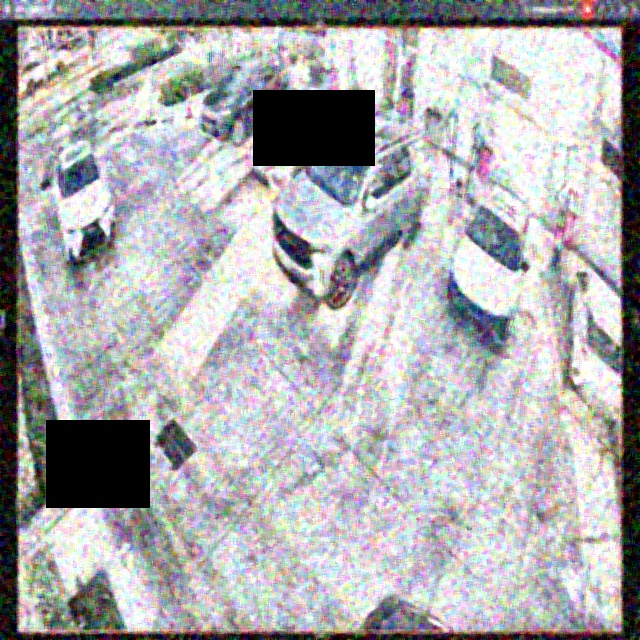Car: (272, 112, 432, 305), (447, 184, 531, 347), (202, 57, 287, 143)
